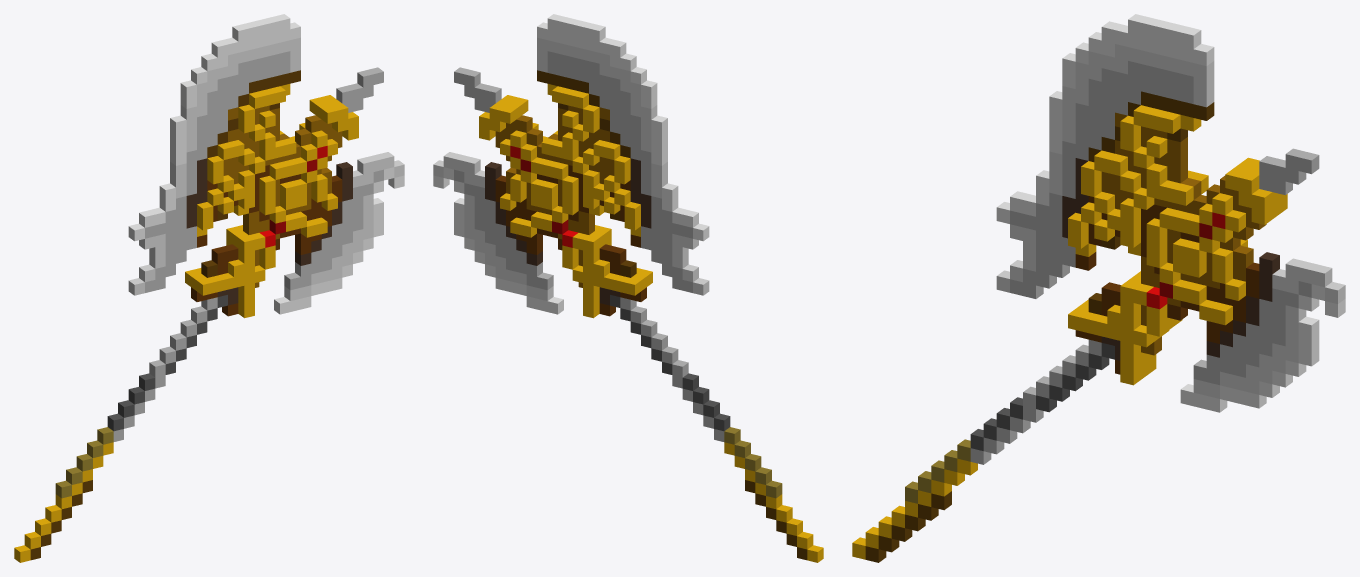
The model's file is maha.obj.
The picture shows the model from 3 angles, left to right: view 1: azimuth 30°, elevation 25°; view 2: azimuth 150°, elevation 25°; view 3: azimuth 330°, elevation 25°; orthographic projection. The views are drawn at different scales.
Size of the model in its own units: 3.7 by 4.4 by 0.3.
Materials: 1 (1 with a texture image).
